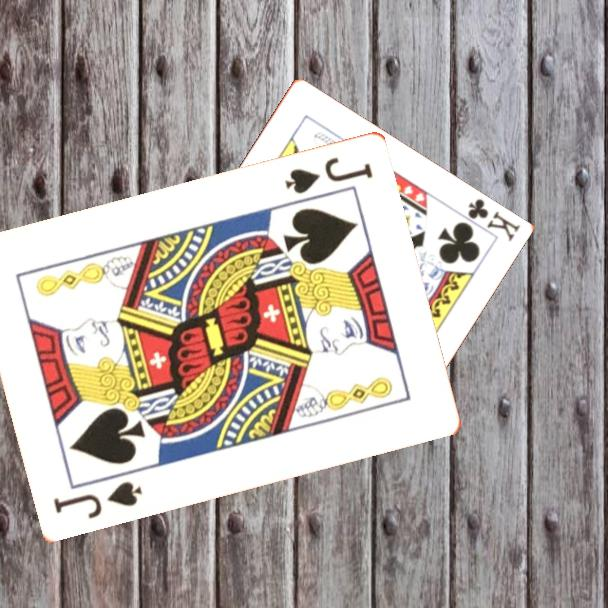c13: (464, 195, 523, 245)
s11: (50, 477, 146, 521), (281, 153, 376, 197)
